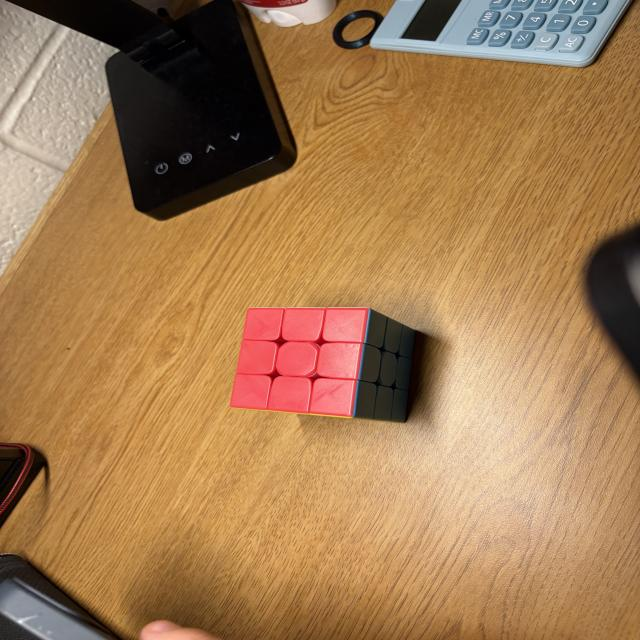Rubiks Cube: (229, 306, 424, 426)
